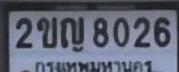0: (112, 16, 128, 46)
2: (133, 16, 149, 47), (15, 17, 31, 47)
6: (153, 16, 169, 46)
8: (92, 17, 108, 46)
A02: (36, 16, 56, 47)
A13: (60, 16, 86, 53)
